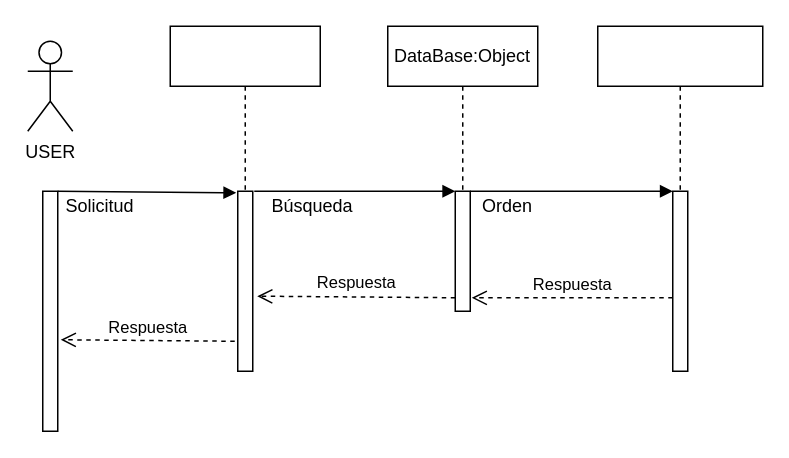
Image size: 789x458. Some labels were removed from this diagram. Here are the shapes that lost their labels. From the top down, the centre of each, then its label:
pixel 244 108: API:Object
pixel 679 108: Warehouse:Object
